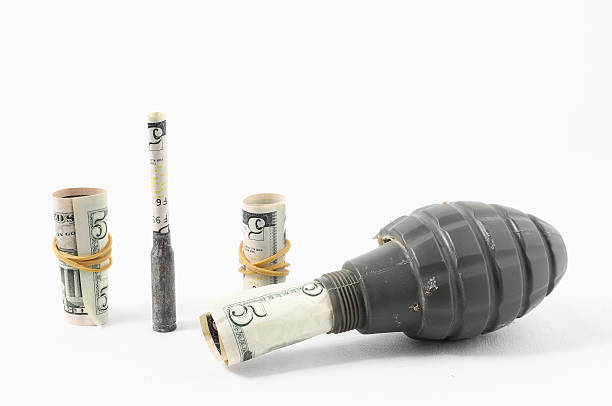e1: (314, 187, 575, 354)
